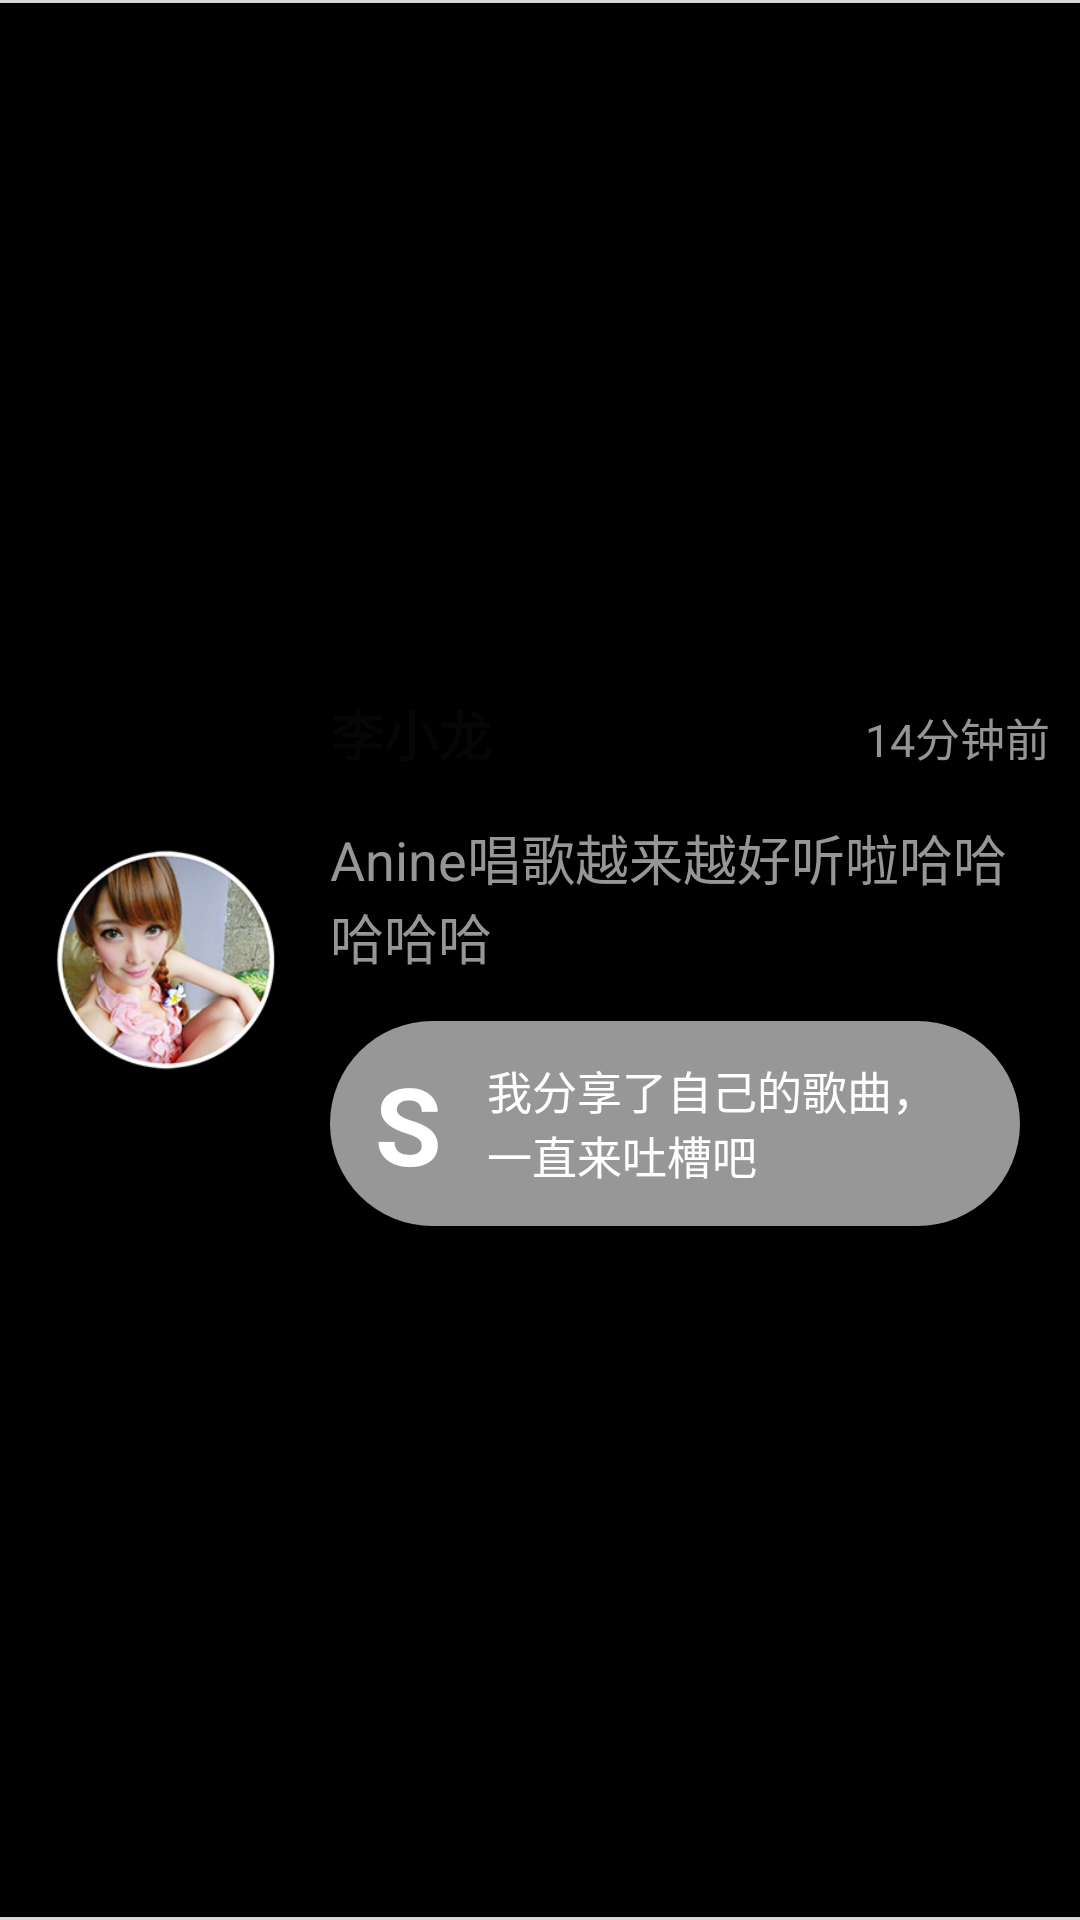

Where icons sit on this 1080*1920 app screen, as (x1, y1, x2, y2):
head left: (57, 850, 275, 1070)
